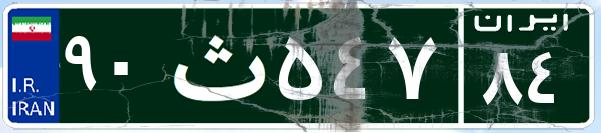0: (110, 28, 158, 105)
4: (330, 28, 385, 110), (525, 38, 570, 115)
5: (273, 28, 330, 110)
7: (385, 28, 445, 110)
8: (475, 38, 525, 113)
9: (57, 26, 110, 107)
ث: (158, 15, 273, 115)
